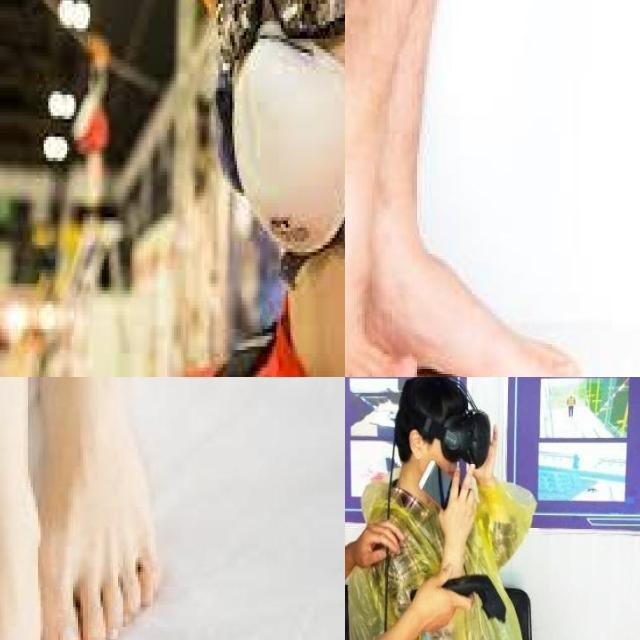Barefoots: (357, 184, 589, 377), (39, 377, 184, 640), (345, 67, 420, 377)
Ear-protection: (199, 0, 345, 169)
hand_noglove: (405, 567, 477, 640), (352, 515, 408, 582), (437, 482, 482, 550)
head_nohelmet: (397, 377, 486, 434)
person: (366, 377, 581, 640)
